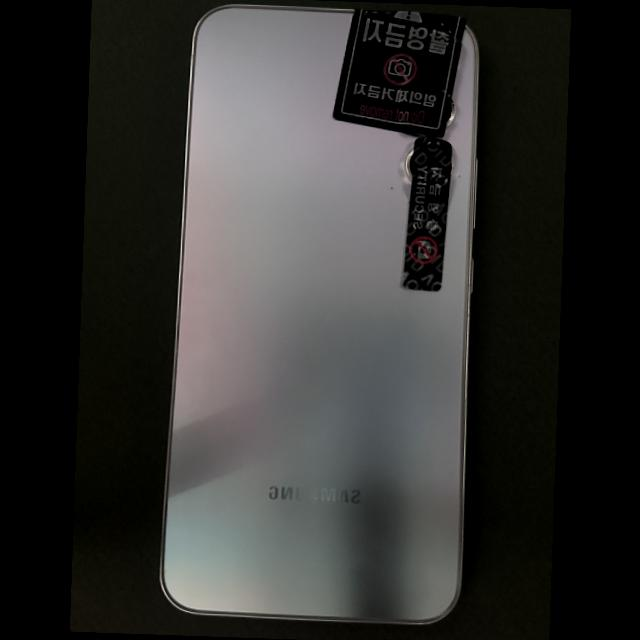lens: (444, 99, 454, 129), (405, 151, 411, 181)
phone: (159, 3, 480, 625)
sticker: (332, 8, 467, 137), (401, 137, 452, 291)
